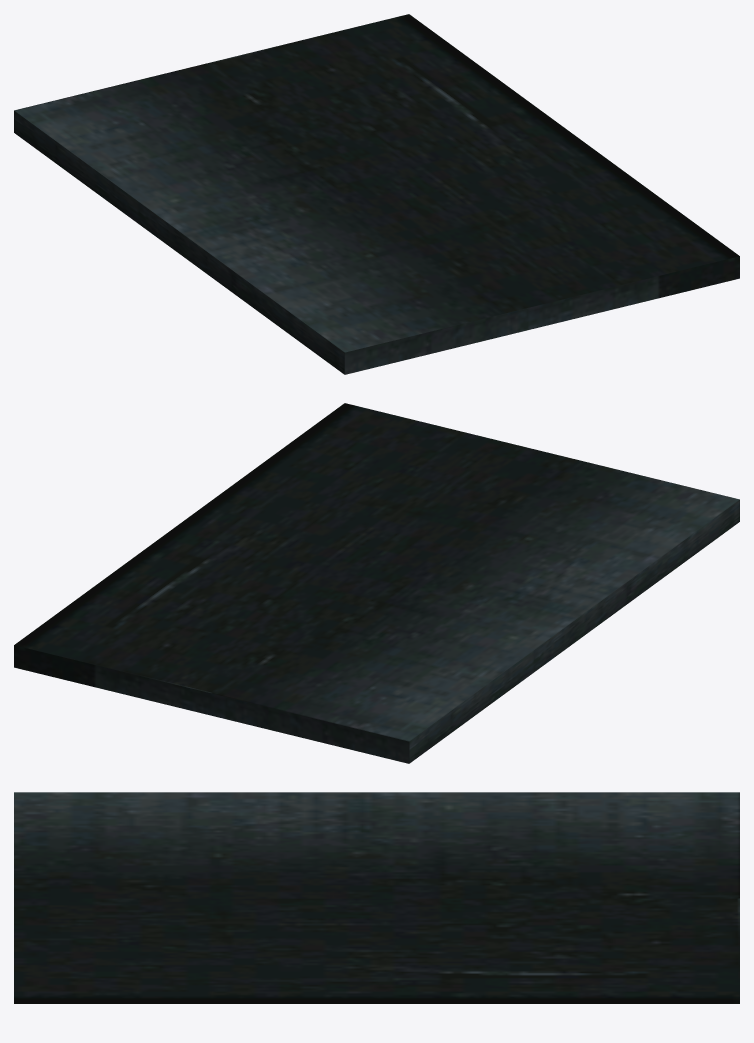
File: CONTROL_TOWER_TABLE01.glb
3 renders of one model, top to bottom at view 1: azimuth 30°, elevation 25°; view 2: azimuth 150°, elevation 25°; view 3: azimuth 270°, elevation 25°, orthographic. The views are drawn at different scales.
Visible parts, largest first — view 1: CONTROL_TOWER_TABLE01; view 2: CONTROL_TOWER_TABLE01; view 3: CONTROL_TOWER_TABLE01.
Part boxes in pixels (x1=…): CONTROL_TOWER_TABLE01: x1=14, y1=14, x2=739, y2=374; CONTROL_TOWER_TABLE01: x1=14, y1=403, x2=739, y2=763; CONTROL_TOWER_TABLE01: x1=14, y1=792, x2=739, y2=1003.
Size of the model in its own units: 1 by 0.054 by 1.45.
1 material, 1 textured.
